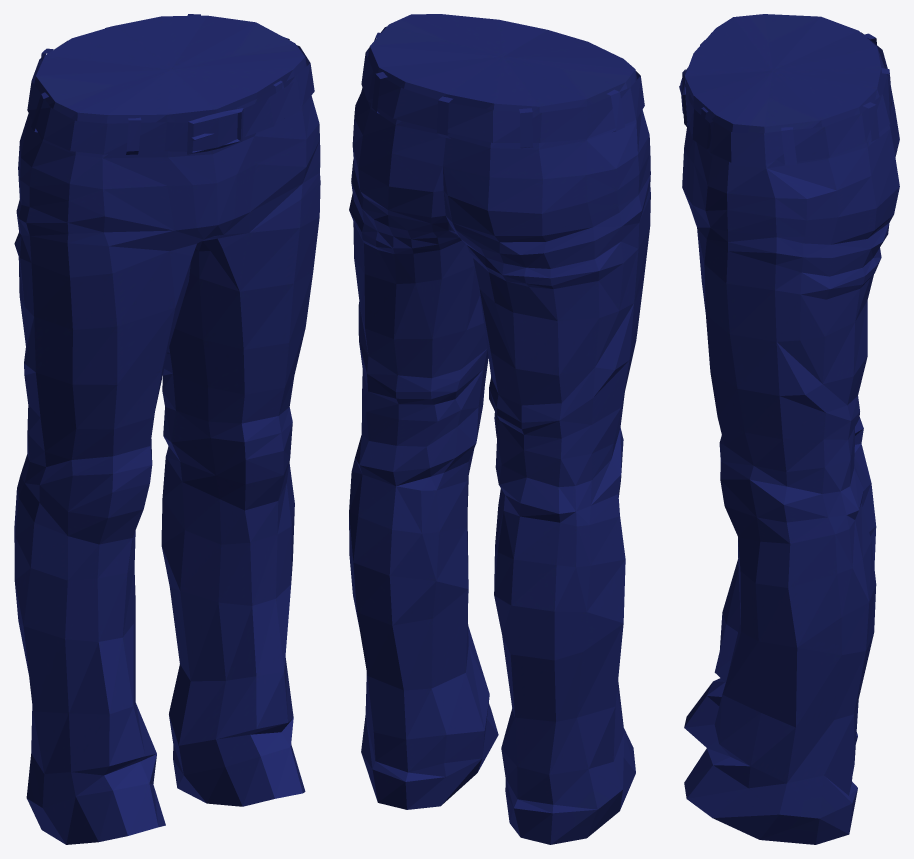
Rendered from pantalon.OBJ.
3 views of the same model, side by side, from view 1: azimuth 30°, elevation 25°; view 2: azimuth 150°, elevation 25°; view 3: azimuth 270°, elevation 25° (orthographic). The views are drawn at different scales.
Parts seen in each view (by area): view 1: Group31604; view 2: Group31604; view 3: Group31604.
Part boxes in pixels (x1,y1,x2,y2): Group31604: (14,14,320,844); Group31604: (349,14,650,844); Group31604: (679,14,899,844).
Size of the model in its own units: 7.12 by 17.95 by 4.94.
